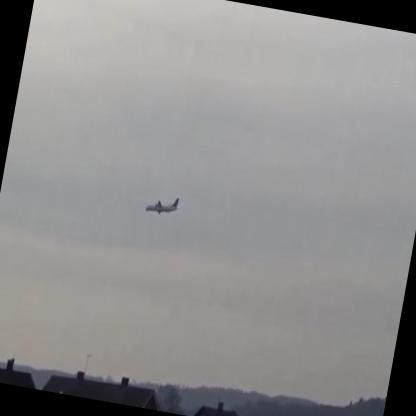plane: (144, 192, 181, 219)
